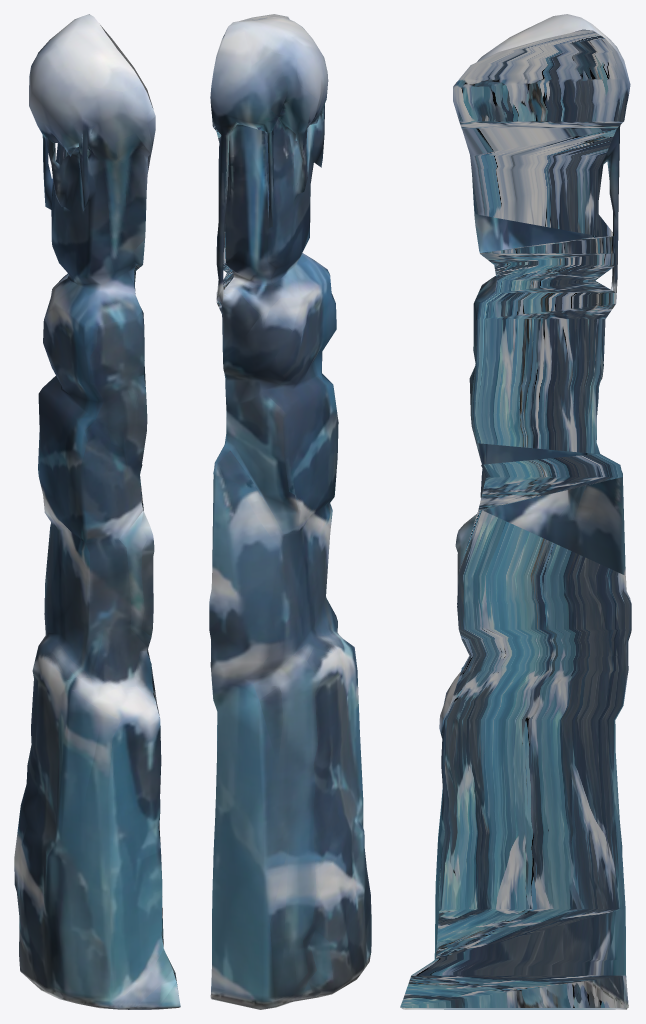
File: SM_Tripo_FrostSeaRampartEndL.glb
3 views of the same model, side by side, from view 1: azimuth 30°, elevation 25°; view 2: azimuth 150°, elevation 25°; view 3: azimuth 270°, elevation 25° (orthographic). The views are drawn at different scales.
Parts seen in each view (by area): view 1: SM_Tripo_FrostSeaRampartEndL_LOD0; view 2: SM_Tripo_FrostSeaRampartEndL_LOD0; view 3: SM_Tripo_FrostSeaRampartEndL_LOD0.
Part boxes in pixels (left/top/right/bottom): SM_Tripo_FrostSeaRampartEndL_LOD0: left=14, top=14, right=180, bottom=1009; SM_Tripo_FrostSeaRampartEndL_LOD0: left=209, top=14, right=371, bottom=1009; SM_Tripo_FrostSeaRampartEndL_LOD0: left=400, top=14, right=631, bottom=1009.
Size of the model in its own units: 0.8759 by 8.8 by 1.88.
1 material, 1 textured.
